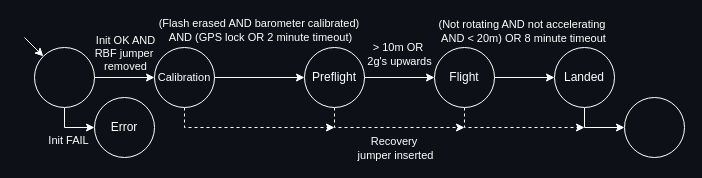
Some shapes in this 702 by 178 pixel diagram are drawn without their labels. The shapes that lost their labels are listed below. From the top down, each one's box as (x1, y1, x2, y2) in pixels, then its label:
(34, 46, 94, 108): Idle
(624, 96, 684, 158): Recovered
